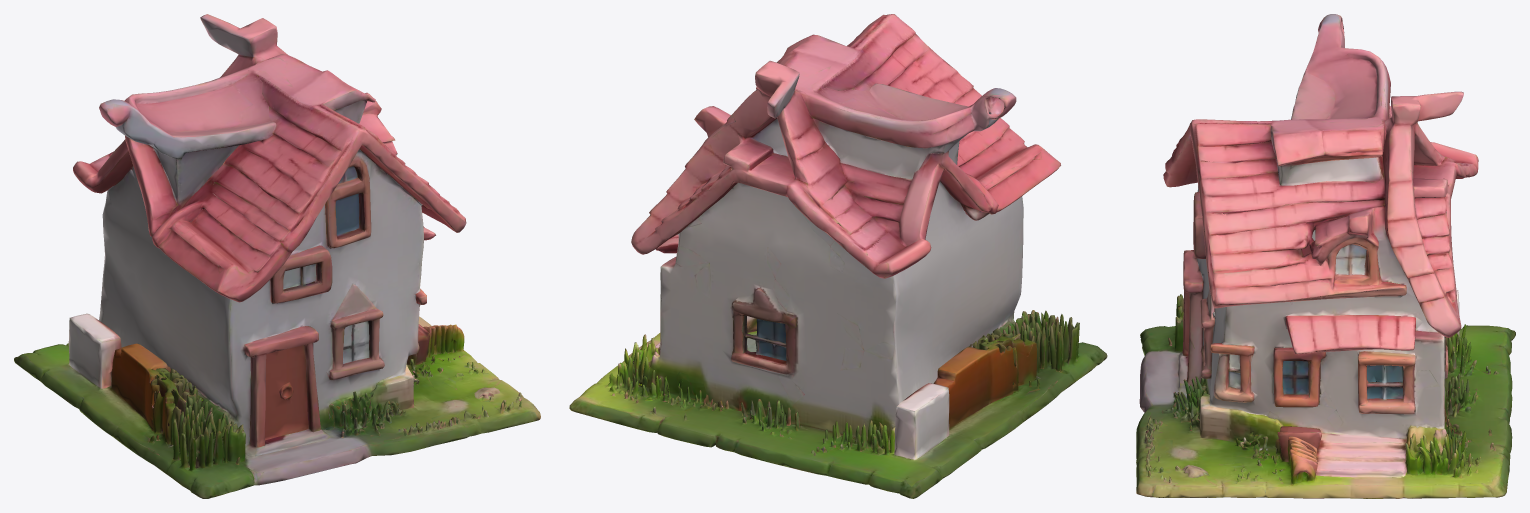
Rendered from house-s6342.glb.
3 renders of one model, left to right at view 1: azimuth 30°, elevation 25°; view 2: azimuth 150°, elevation 25°; view 3: azimuth 270°, elevation 25°, orthographic. The views are drawn at different scales.
Parts seen in each view (by area): view 1: geometry_0; view 2: geometry_0; view 3: geometry_0.
Part boxes in pixels (box(x1,y1,x2,y2)): geometry_0: box(14, 14, 540, 498); geometry_0: box(569, 14, 1107, 498); geometry_0: box(1136, 14, 1515, 498).
Size of the model in its own units: 3.84 by 3.5 by 3.68.
1 material, 1 textured.
